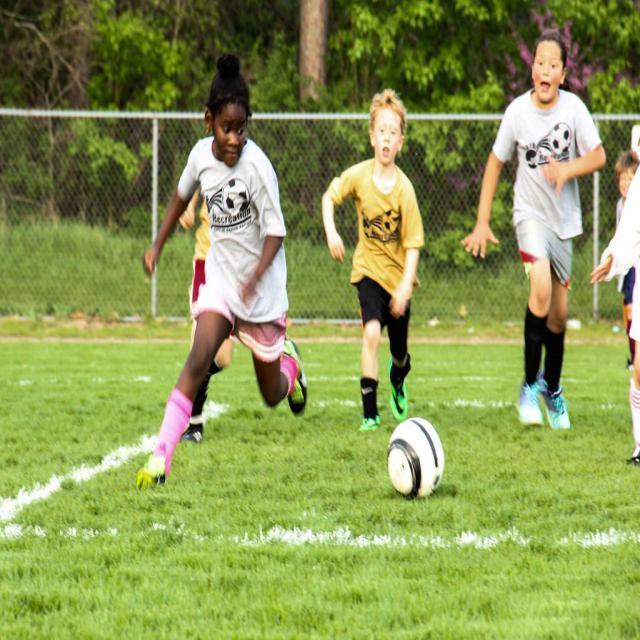ball: (384, 417, 448, 500)
